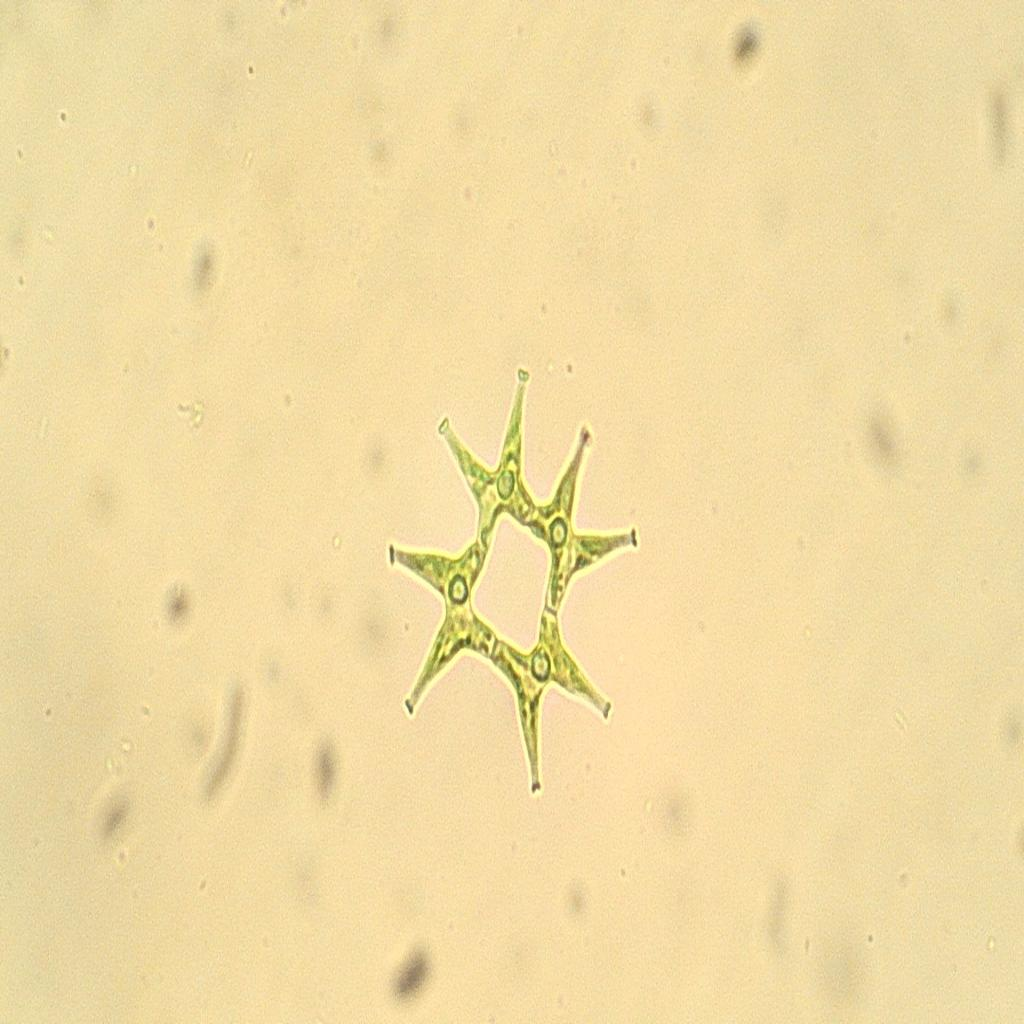Pediastrum_CO: (375, 358, 649, 809)
